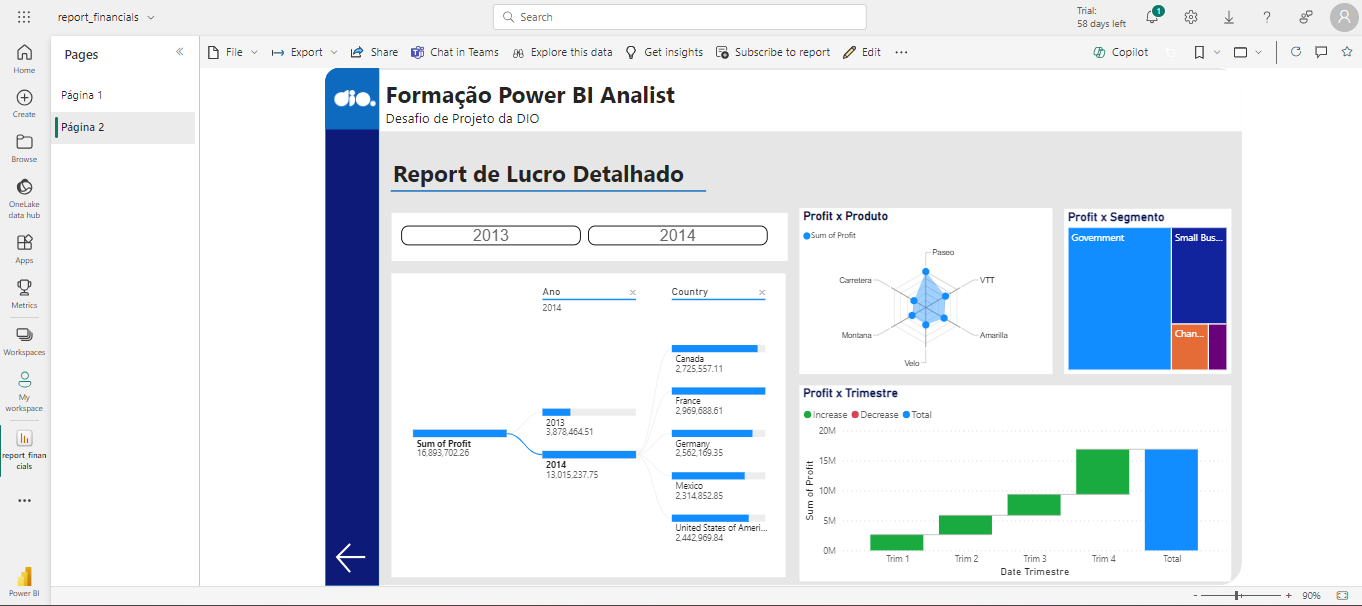

The page's visual inventory and layout, read from the dashboard file:
{"tool":"powerbi","page":{"name":"Página 2","canvas":[1280,720],"ordinal":1},"visuals":[{"type":"group","id":"g1","title":"model","box":[4.4,0,1275.4,720.6],"z":0},{"type":"shape","box":[9.6,0,1270.2,720],"z":0,"group":"g1"},{"type":"shape","box":[80,1.9,1200,86.3],"z":0,"group":"g5"},{"type":"shape","box":[96,146.9,439,48.3],"z":0,"group":"g2"},{"type":"shape","title":"Radar","box":[664.6,196.4,351.9,229.2],"z":0,"group":"g6"},{"type":"shape","title":"treemap","box":[1032.8,196.4,232.4,229.2],"z":0,"group":"g7"},{"type":"shape","title":"Filtro","box":[96.6,201.6,551.6,67.1],"z":0,"group":"g3"},{"type":"shape","title":"Arvore hierarquica","box":[96.6,286.4,548.3,422.3],"z":0,"group":"g4"},{"type":"shape","title":"Cascata","box":[664.6,441.9,600.7,266.8],"z":0,"group":"g8"},{"type":"shape","box":[4.4,0,75.6,720.6],"z":1000,"group":"g1"},{"type":"textbox","box":[83.7,8.8,434.6,77.6],"z":1000,"group":"g5"},{"type":"group","id":"g2","title":"Titulo","box":[93.3,117.9,441.9,78.6],"z":1000},{"type":"textbox","box":[93.3,117.9,437.6,67.3],"z":1000,"group":"g2"},{"type":"RadarChart1446119667547","title":"Profit x Produto","fields":{"Y":["Sum(financials.Profit)"],"Category":["financials.Product"]},"box":[664.4,194.6,351.2,231.2],"z":1000,"group":"g6"},{"type":"treemap","title":"Profit x Segmento","fields":{"Values":["Sum(financials.Profit)"],"Group":["financials.Segment"]},"box":[1033.1,197.5,231.2,228.3],"z":1000,"group":"g7"},{"type":"ChicletSlicer1448559807354","fields":{"Values":["Sum(financials.Profit)"],"Category":["financials.Date.Variation.Hierarquia de datas.Ano"]},"box":[99.9,209.8,545.1,50.7],"z":1000,"group":"g3"},{"type":"decompositionTreeVisual","fields":{"Analyze":["Sum(financials.Profit)"],"ExplainBy":["financials.Date.Variation.Hierarquia de datas.Ano","financials.Country"]},"box":[96.6,286.4,543.4,422.3],"z":1000,"group":"g4"},{"type":"waterfallChart","title":"Profit x Trimestre","fields":{"Y":["Sum(financials.Profit)"],"Category":["financials.Date.Variation.Hierarquia de datas.Trimestre"]},"box":[664.4,441.9,600,272.2],"z":1000,"group":"g8"},{"type":"shape","box":[4.4,0,75.6,85.7],"z":2000,"group":"g1"},{"type":"group","id":"g3","title":"filtro","box":[96.6,201.6,551.6,67.1],"z":2000},{"type":"group","id":"g4","title":"arvore","box":[96.6,286.4,548.3,422.3],"z":3000},{"type":"actionButton","box":[14.1,654.1,52.7,54.1],"z":3000,"group":"g1"},{"type":"group","id":"g5","title":"Header","box":[80,1.9,1200,86.3],"z":4000},{"type":"image","title":"Logo","box":[12.6,4.4,67.3,74.6],"z":4000,"group":"g1"},{"type":"group","id":"g6","title":"radar","box":[664.4,194.6,352.1,231.2],"z":5000},{"type":"group","id":"g7","title":"treemap","box":[1032.8,196.4,232.4,229.4],"z":6000},{"type":"group","id":"g8","title":"cascata","box":[664.4,441.9,600.9,272.2],"z":7000}]}

Visuals, with their boxes on the page's 1280x720 design canvas (x1, y1, x2, y2). These are canvas units, not pixel positions in the 1362x606 screenshot, which may show the page scaled, cropped or inside an application window:
"model" group: bbox(4, 0, 1280, 721)
shape: bbox(10, 0, 1280, 720)
shape: bbox(80, 2, 1280, 88)
shape: bbox(96, 147, 535, 195)
"Radar" shape: bbox(665, 196, 1016, 426)
"treemap" shape: bbox(1033, 196, 1265, 426)
"Filtro" shape: bbox(97, 202, 648, 269)
"Arvore hierarquica" shape: bbox(97, 286, 645, 709)
"Cascata" shape: bbox(665, 442, 1265, 709)
shape: bbox(4, 0, 80, 721)
textbox: bbox(84, 9, 518, 86)
"Titulo" group: bbox(93, 118, 535, 196)
textbox: bbox(93, 118, 531, 185)
"Profit x Produto" RadarChart1446119667547: bbox(664, 195, 1016, 426)
"Profit x Segmento" treemap: bbox(1033, 198, 1264, 426)
ChicletSlicer1448559807354 - Sum(financials.Profit) x financials.Date.Variation.Hierarquia de datas.Ano: bbox(100, 210, 645, 260)
decompositionTreeVisual - Sum(financials.Profit) x financials.Date.Variation.Hierarquia de datas.Ano: bbox(97, 286, 640, 709)
"Profit x Trimestre" waterfallChart: bbox(664, 442, 1264, 714)
shape: bbox(4, 0, 80, 86)
"filtro" group: bbox(97, 202, 648, 269)
"arvore" group: bbox(97, 286, 645, 709)
actionButton: bbox(14, 654, 67, 708)
"Header" group: bbox(80, 2, 1280, 88)
"Logo" image: bbox(13, 4, 80, 79)
"radar" group: bbox(664, 195, 1016, 426)
"treemap" group: bbox(1033, 196, 1265, 426)
"cascata" group: bbox(664, 442, 1265, 714)
